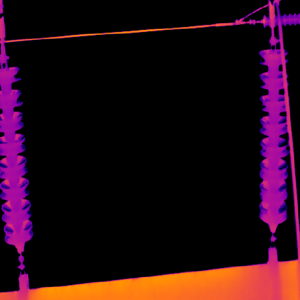insulator: (257, 42, 291, 230), (0, 65, 34, 247), (261, 11, 300, 30)
